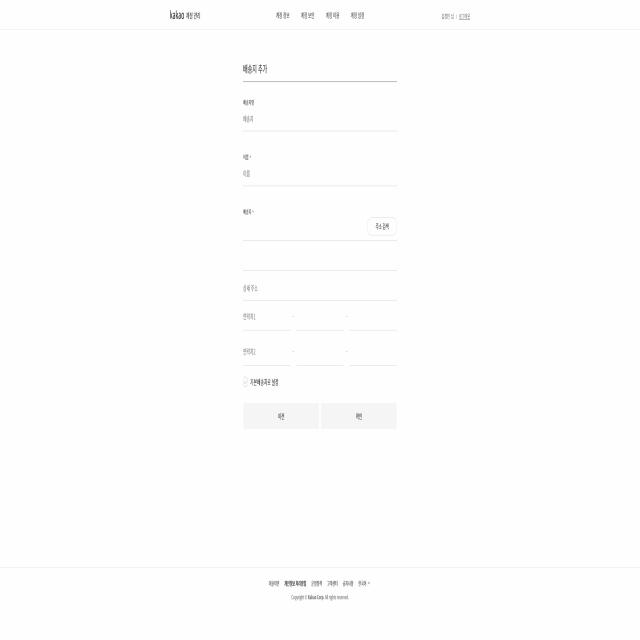tab-bar: (271, 3, 370, 26)
